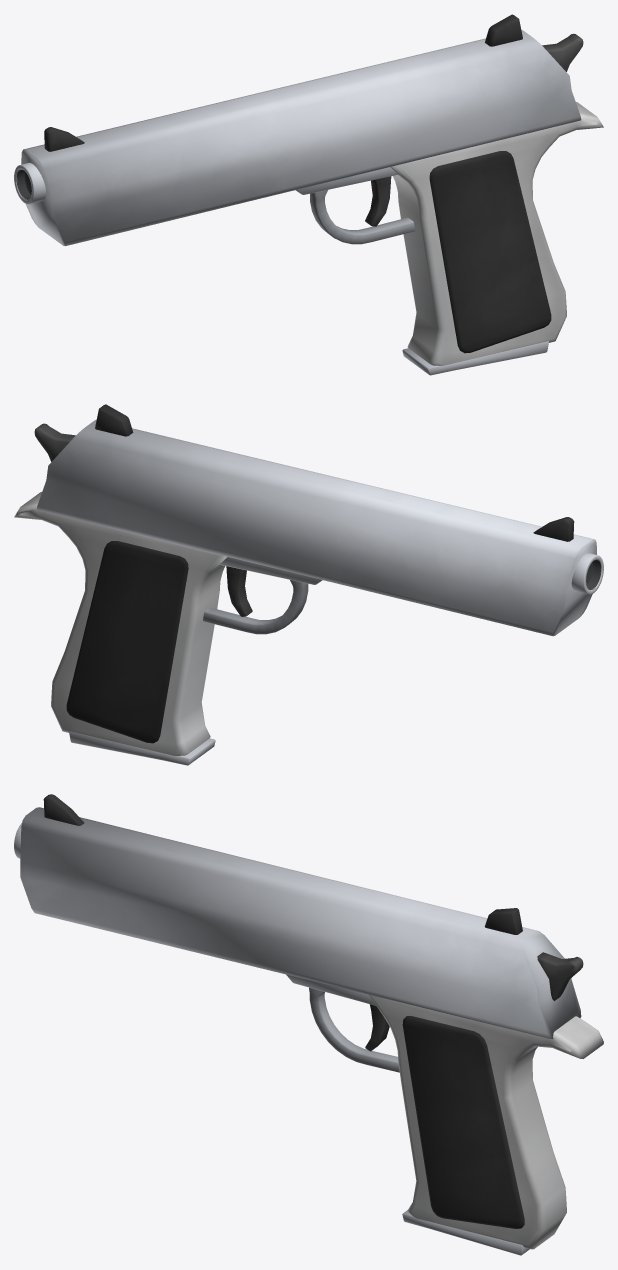
Rendered from pistol2.fbx.
3 renders of one model, top to bottom at view 1: azimuth 30°, elevation 25°; view 2: azimuth 150°, elevation 25°; view 3: azimuth 330°, elevation 25°, orthographic.
Visible parts, largest first — view 1: deagle, cartridge, trigger; view 2: deagle, cartridge, trigger; view 3: deagle, cartridge, trigger.
Part boxes in pixels (<box>): deagle: <box>14,14,603,365</box>; cartridge: <box>402,341,548,375</box>; trigger: <box>365,176,391,226</box>; deagle: <box>14,404,603,755</box>; cartridge: <box>69,731,215,765</box>; trigger: <box>226,566,252,616</box>; deagle: <box>14,794,603,1249</box>; cartridge: <box>402,1210,529,1255</box>; trigger: <box>365,1004,389,1051</box>.
Bounding box in the file's own units: 31.04 × 17.32 × 3.11.
Materials: 1 (1 with a texture image).
